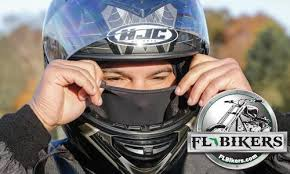com_capacete: (36, 1, 215, 174)
